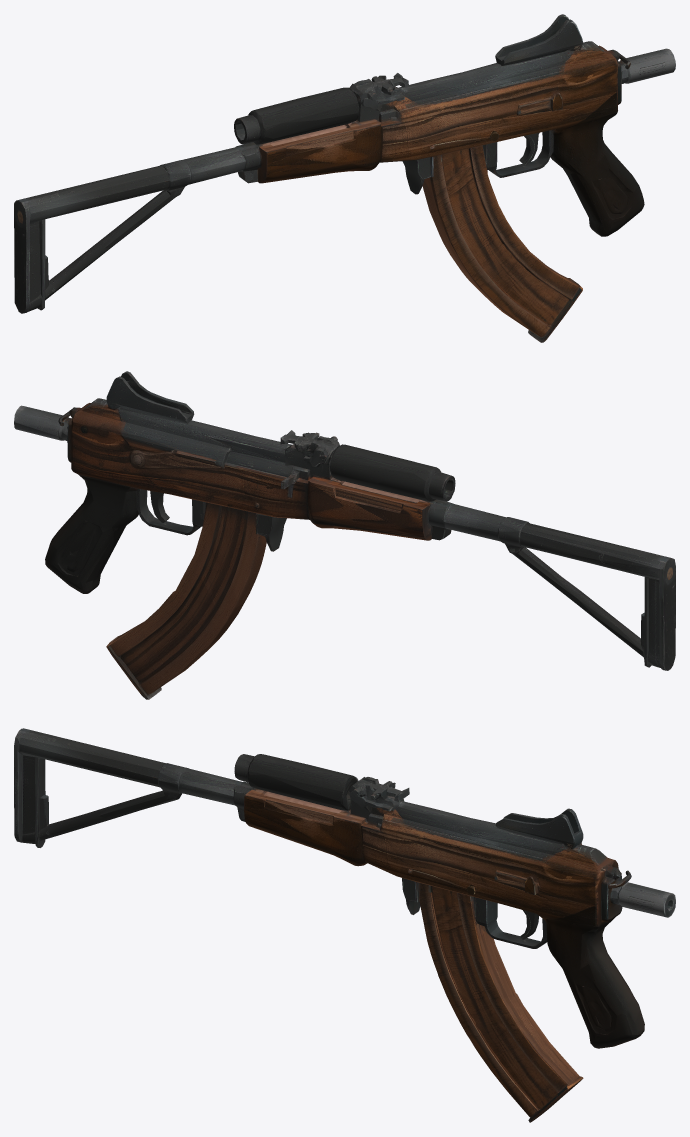
3 views of the same model, one above another, from view 1: azimuth 30°, elevation 25°; view 2: azimuth 150°, elevation 25°; view 3: azimuth 330°, elevation 25° (orthographic).
Size of the model in its own units: 1.9 by 0.8779 by 0.1725.
1 material, 1 textured.
